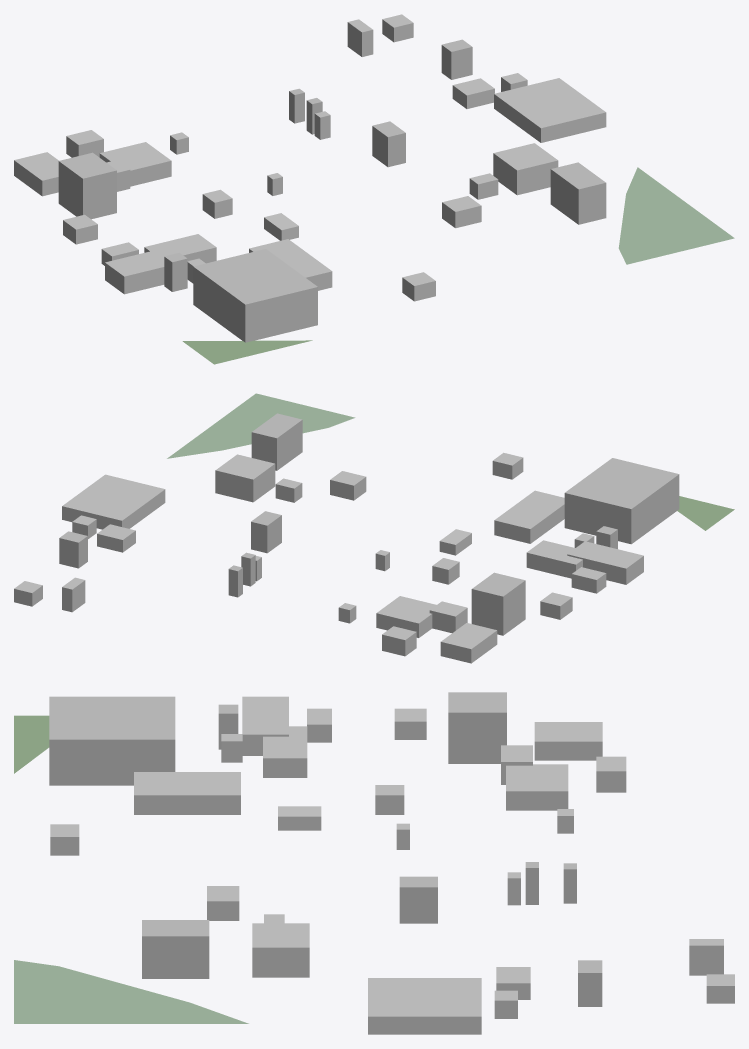
File: 113_115_mid.glb
3 views of the same model, one above another, from view 1: azimuth 30°, elevation 25°; view 2: azimuth 150°, elevation 25°; view 3: azimuth 270°, elevation 25° (orthographic). The views are drawn at different scales.
Bounding box in the file's own units: 517 × 40.27 × 496.
